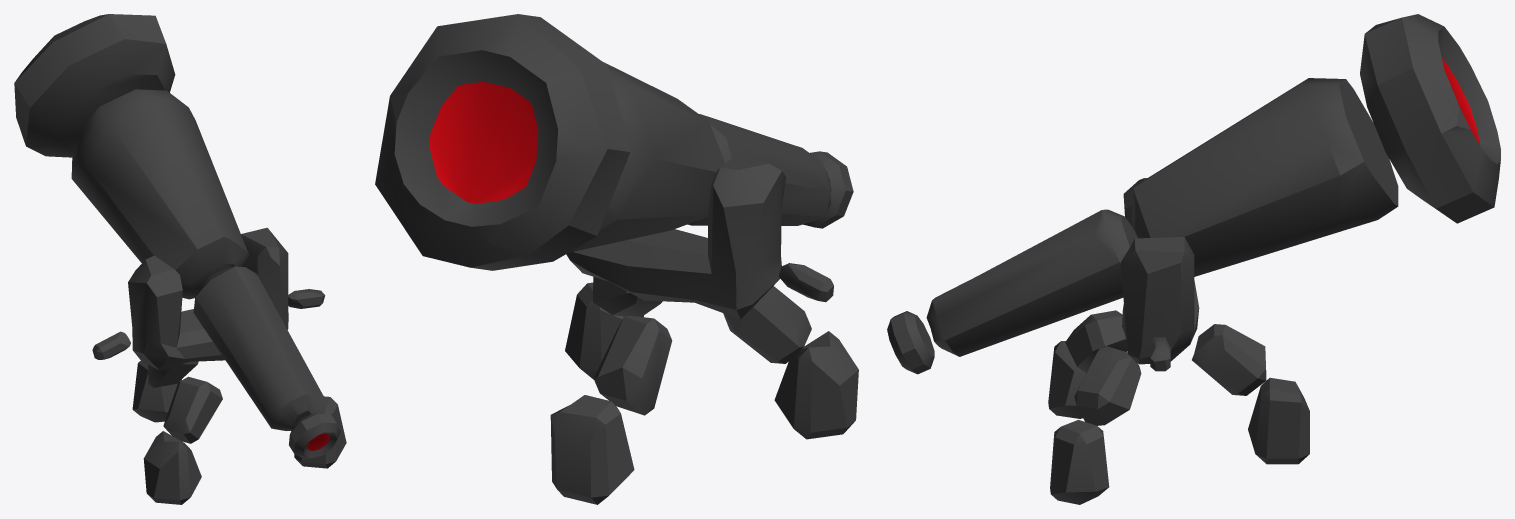
Rendered from Stone Telescope.fbx.
3 views of the same model, side by side, from view 1: azimuth 30°, elevation 25°; view 2: azimuth 150°, elevation 25°; view 3: azimuth 270°, elevation 25° (orthographic). The views are drawn at different scales.
Parts seen in each view (by area): view 1: Scope, Base; view 2: Scope, Base; view 3: Scope, Base.
Part boxes in pixels (x1,y1,x2,y2): Scope: [14, 14, 340, 458]; Base: [92, 227, 346, 504]; Scope: [375, 14, 853, 270]; Base: [550, 155, 858, 504]; Scope: [887, 14, 1500, 374]; Base: [1048, 178, 1309, 504].
Bounding box in the file's own units: 984 × 1516 × 1917.
